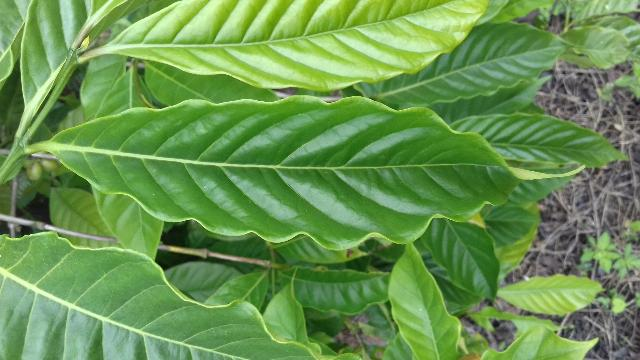healthy: (47, 92, 582, 251)
